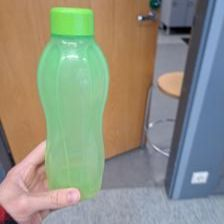bottle: (35, 4, 111, 200)
